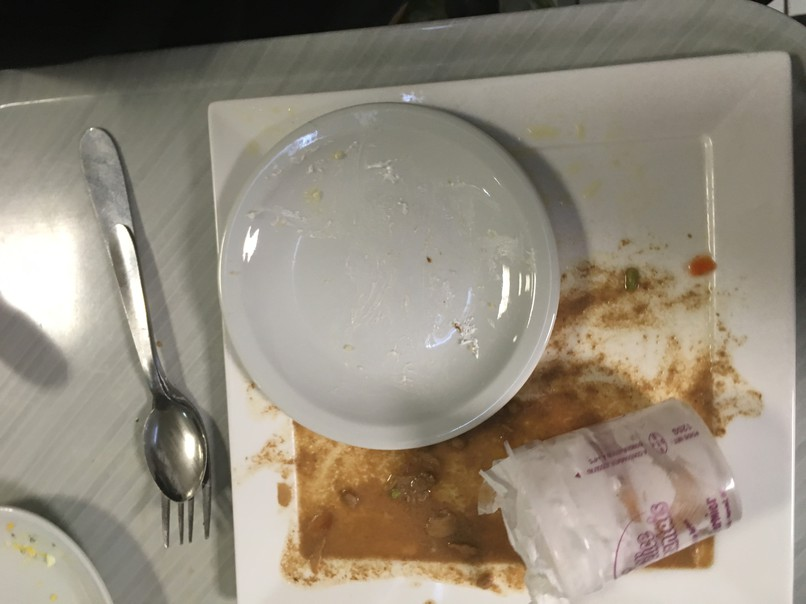orga: (310, 461, 465, 572)
trash: (490, 389, 739, 596)
